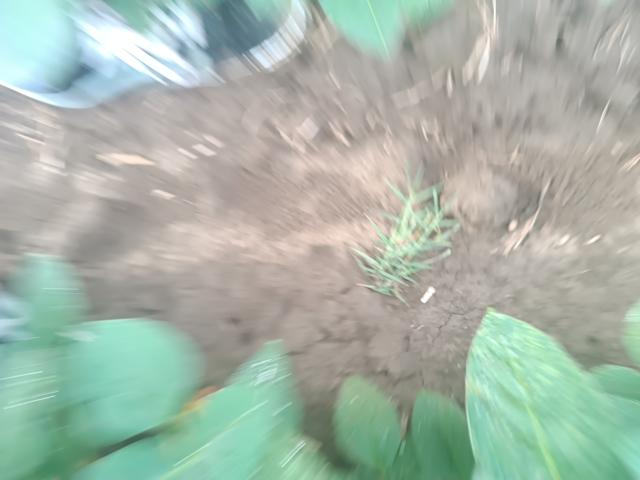bad weed: (339, 158, 469, 304)
